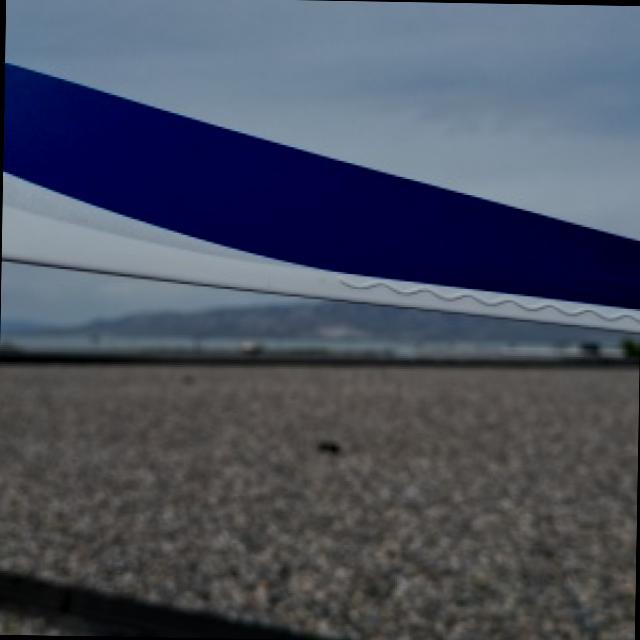healthy: (0, 63, 639, 356)
